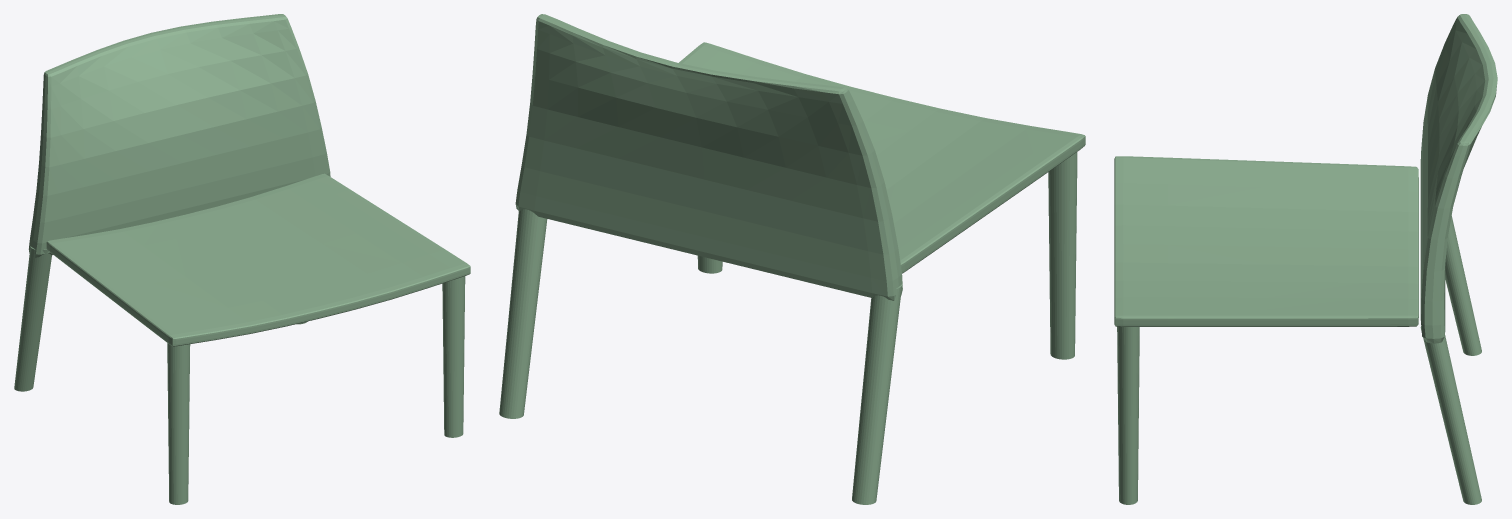
File: sh-bsby-chair3.glb
3 views of the same model, side by side, from view 1: azimuth 30°, elevation 25°; view 2: azimuth 150°, elevation 25°; view 3: azimuth 270°, elevation 25° (orthographic). The views are drawn at different scales.
Parts seen in each view (by area): view 1: Cube.013_Cube.021; view 2: Cube.013_Cube.021; view 3: Cube.013_Cube.021.
Boxes of the visible parts, x1,y1,x2,y2 form: Cube.013_Cube.021: (14,14,470,504); Cube.013_Cube.021: (499,14,1085,504); Cube.013_Cube.021: (1114,14,1497,504).
Bounding box in the file's own units: 1 × 1 × 1.
